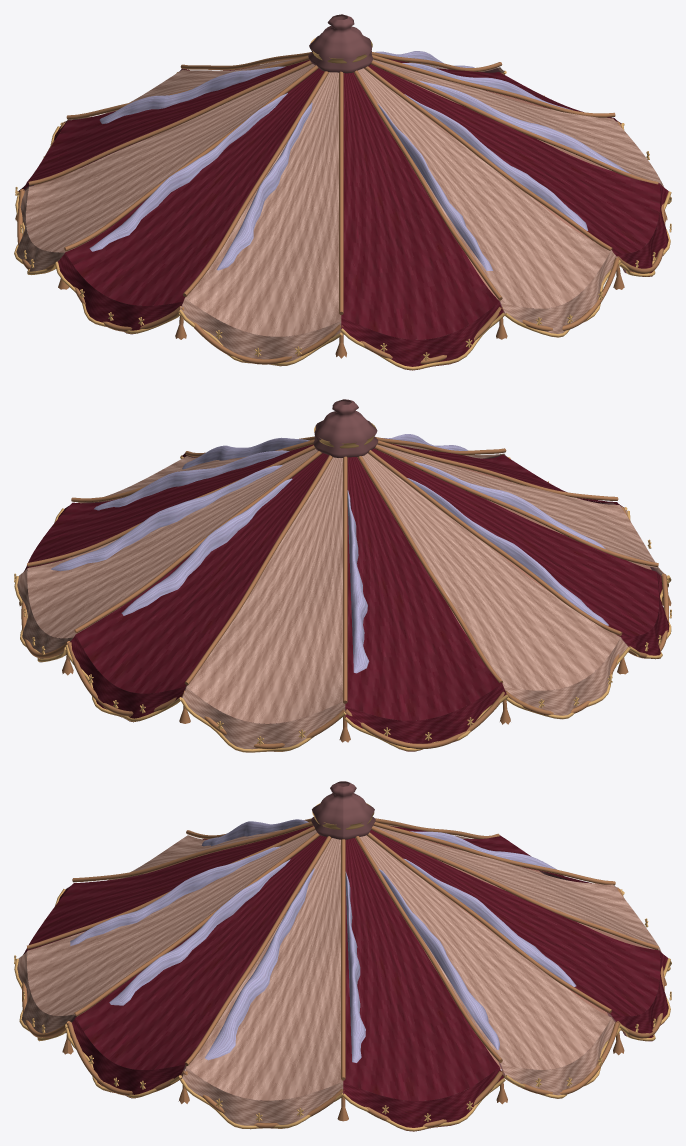
Rendered from carousel-canopy.glb.
The picture shows the model from 3 angles, top to bottom: view 1: azimuth 30°, elevation 25°; view 2: azimuth 150°, elevation 25°; view 3: azimuth 270°, elevation 25°; orthographic projection.
Visible parts, largest first — view 1: Mulberry / brushed canvas, Oat linen / brushed canvas, Saddle stitching / ochre, Periwinkle drift, Old gold thread, Copper-painted wood, Apricot lining; view 2: Oat linen / brushed canvas, Mulberry / brushed canvas, Saddle stitching / ochre, Periwinkle drift, Old gold thread, Copper-painted wood; view 3: Mulberry / brushed canvas, Oat linen / brushed canvas, Saddle stitching / ochre, Periwinkle drift, Old gold thread, Copper-painted wood, Apricot lining.
Part boxes in pixels (bbox=[...]): Mulberry / brushed canvas: bbox=[18, 59, 668, 370]; Oat linen / brushed canvas: bbox=[16, 58, 668, 366]; Saddle stitching / ochre: bbox=[15, 52, 667, 364]; Periwinkle drift: bbox=[89, 51, 630, 270]; Old gold thread: bbox=[14, 38, 671, 370]; Copper-painted wood: bbox=[23, 14, 646, 339]; Apricot lining: bbox=[34, 68, 608, 299]; Oat linen / brushed canvas: bbox=[17, 444, 666, 752]; Mulberry / brushed canvas: bbox=[24, 443, 669, 751]; Saddle stitching / ochre: bbox=[19, 436, 671, 748]; Periwinkle drift: bbox=[51, 434, 608, 673]; Old gold thread: bbox=[14, 422, 671, 752]; Copper-painted wood: bbox=[43, 399, 661, 723]; Mulberry / brushed canvas: bbox=[23, 825, 668, 1131]; Oat linen / brushed canvas: bbox=[17, 824, 661, 1129]; Saddle stitching / ochre: bbox=[22, 818, 666, 1128]; Periwinkle drift: bbox=[70, 819, 576, 1062]; Old gold thread: bbox=[14, 803, 671, 1131]; Copper-painted wood: bbox=[27, 781, 649, 1100]; Apricot lining: bbox=[77, 835, 649, 1069].
Bounding box in the file's own units: 7.04 × 2.55 × 7.05.
Materials: 7 (3 with a texture image).
